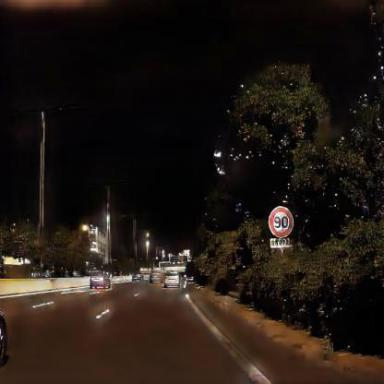Speed_limit_90: (269, 206, 295, 238)
